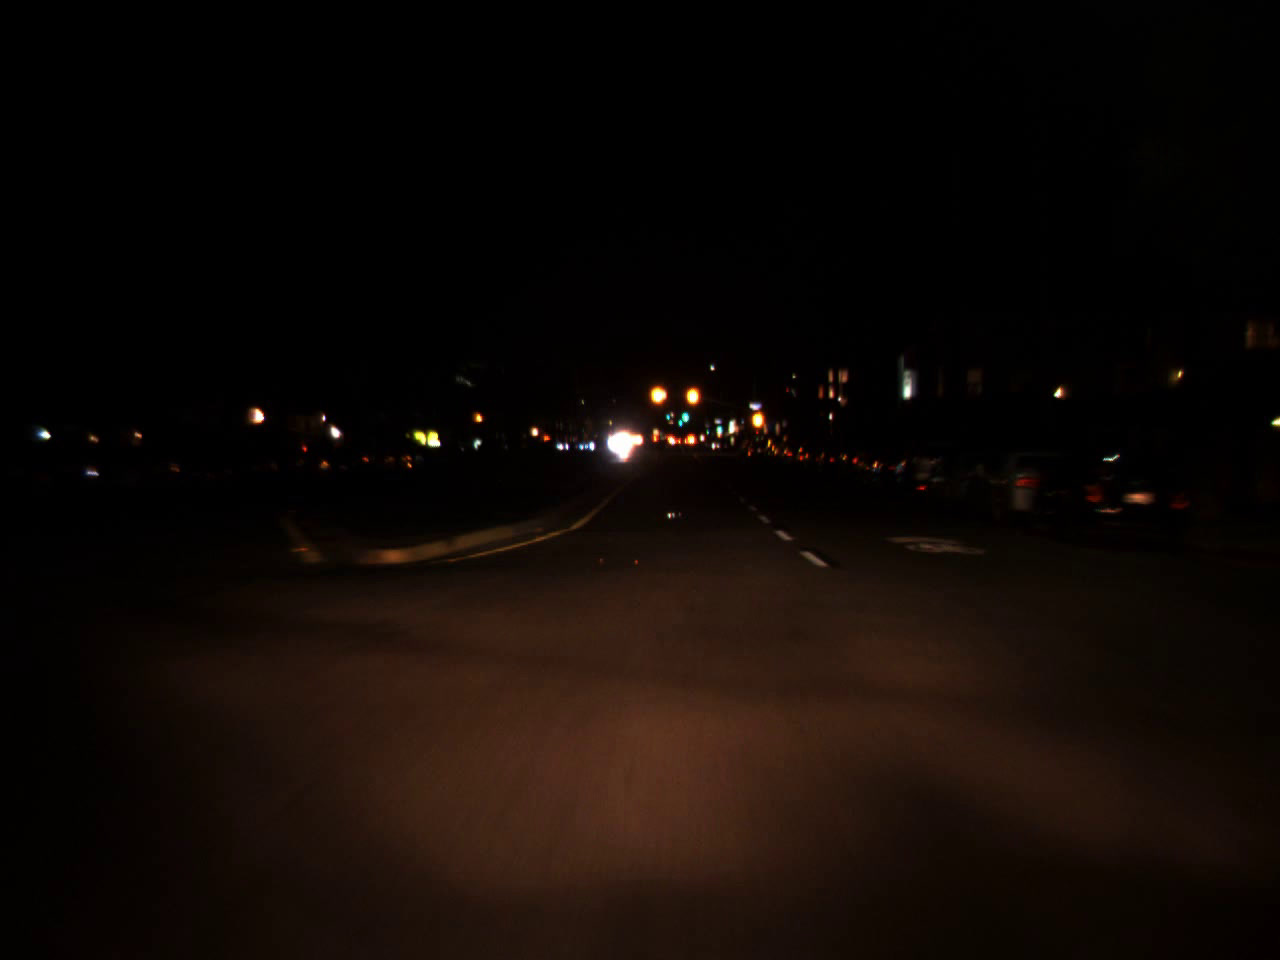go: (679, 399, 689, 426), (662, 406, 672, 421), (715, 419, 722, 434)
warning: (647, 375, 671, 410), (748, 399, 767, 439), (684, 375, 702, 415), (470, 403, 485, 430)
